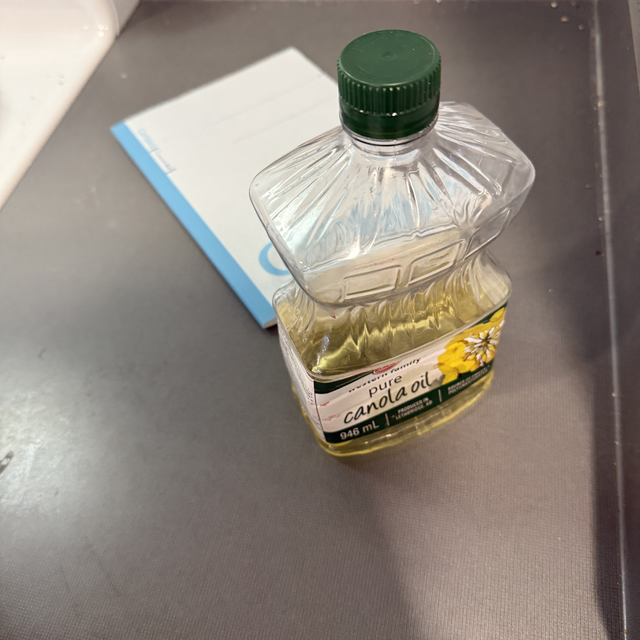Canola Oil: (273, 73, 547, 474)
Paper: (128, 41, 360, 307)
